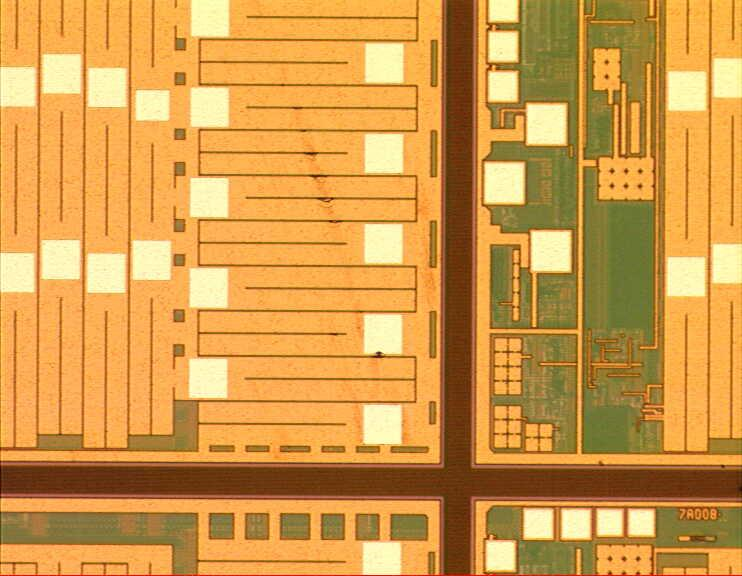SCRATCH: (246, 1, 418, 472)
